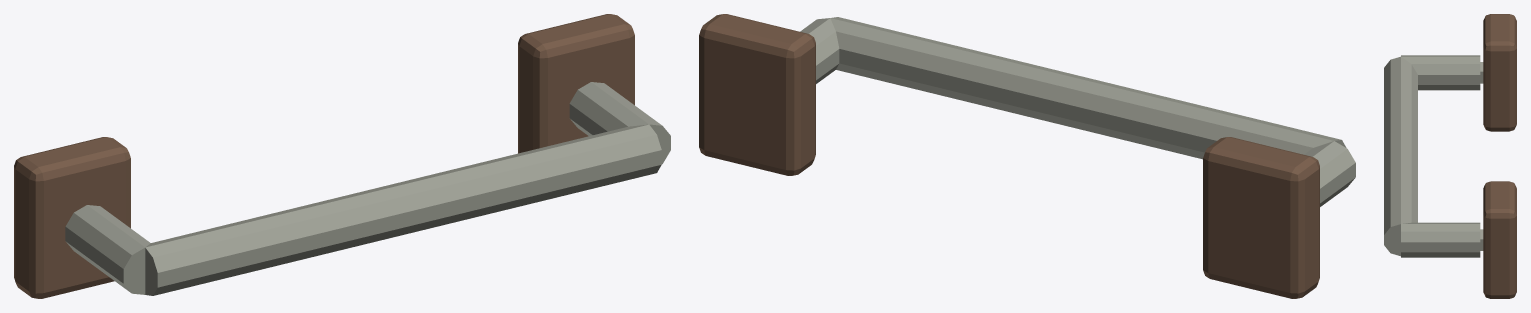
The model's file is drawer_handle.glb.
3 views of the same model, side by side, from view 1: azimuth 30°, elevation 25°; view 2: azimuth 150°, elevation 25°; view 3: azimuth 270°, elevation 25° (orthographic). The views are drawn at different scales.
Visible parts, largest first — view 1: drawer_handle; view 2: drawer_handle; view 3: drawer_handle.
Boxes of the visible parts, x1,y1,x2,y2 form: drawer_handle: (14,14,670,298); drawer_handle: (699,14,1355,298); drawer_handle: (1384,14,1516,298).
Size of the model in its own units: 0.24 by 0.05 by 0.0671.
